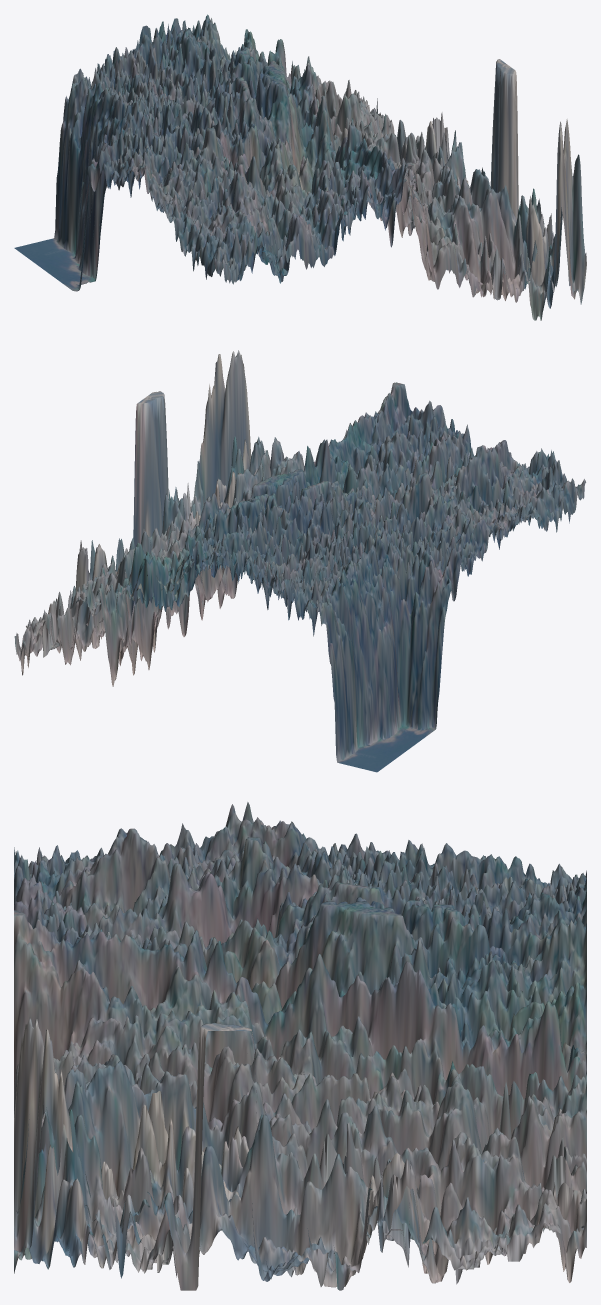
The model's file is dsm_d1ceb055d0_mesh.glb.
The picture shows the model from 3 angles, top to bottom: view 1: azimuth 30°, elevation 25°; view 2: azimuth 150°, elevation 25°; view 3: azimuth 270°, elevation 25°; orthographic projection. The views are drawn at different scales.
Parts seen in each view (by area): view 1: geometry_0; view 2: geometry_0; view 3: geometry_0.
Part boxes in pixels (box(x1,y1,x2,y2)): geometry_0: box(14, 14, 586, 320); geometry_0: box(14, 350, 585, 772); geometry_0: box(14, 802, 586, 1290).
Size of the model in its own units: 2 by 1 by 2.
